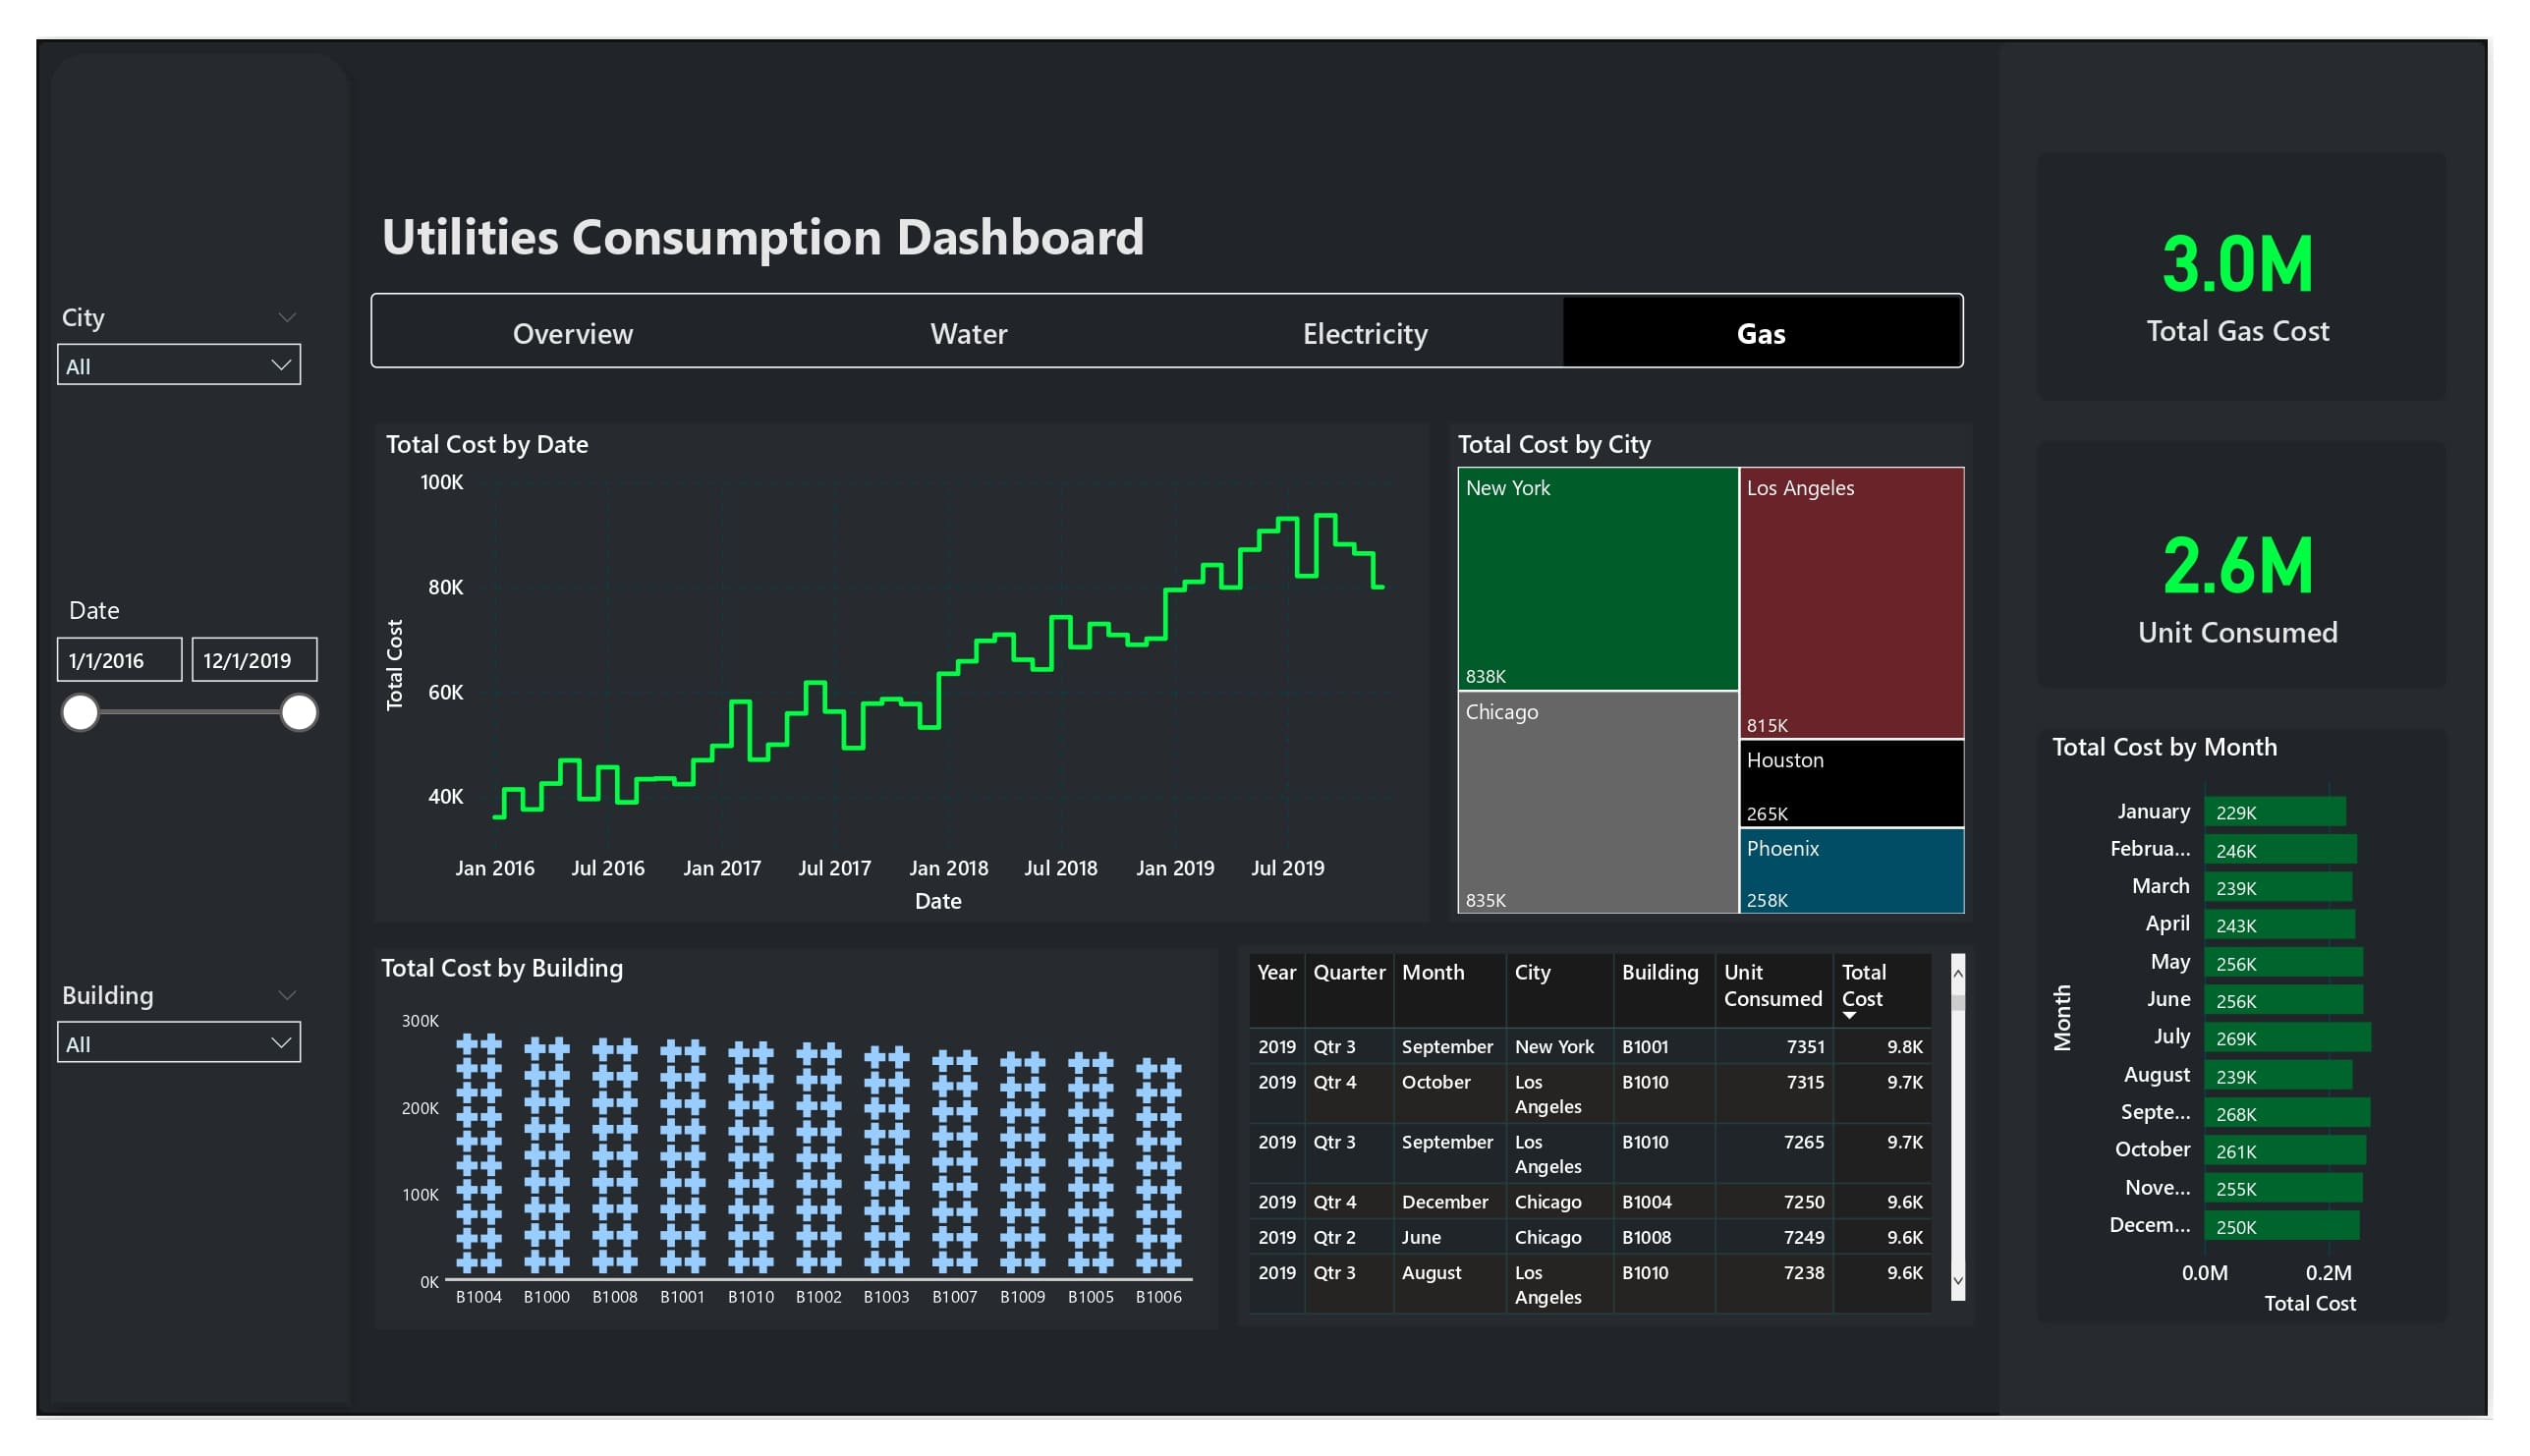

Layout of this report page (visuals, bound fields, positions):
{"tool":"powerbi","page":{"name":"Gas","canvas":[1600,900],"ordinal":3},"visuals":[{"type":"textbox","box":[219.2,101.9,776.9,65.4],"z":0},{"type":"pageNavigator","box":[218.2,166.4,1038.2,49.1],"z":1000},{"type":"card","fields":{"Values":["Measures_Table.Total Cost"]},"box":[1306.6,81.7,255.4,145.9],"z":2000},{"type":"card","fields":{"Values":["Measures_Table.Unit Consumed"]},"box":[1306.7,282.2,255.6,135.6],"z":4000},{"type":"slicer","fields":{"Values":["Building Master.City"]},"box":[3.5,166.8,179,73],"z":5000},{"type":"slicer","fields":{"Values":["Energy Consumptions.Building"]},"box":[3.5,608.1,179,73],"z":6000},{"type":"slicer","fields":{"Values":["Energy Consumptions.Date"]},"box":[0,380.5,192.3,86.5],"z":7000},{"type":"textbox","box":[15.6,357.9,152.9,33],"z":8000},{"type":"lineChart","fields":{"Category":["Energy Consumptions.Date"],"Y":["Measures_Table.Total Cost"]},"box":[222.9,254.2,683.3,322.9],"z":9000},{"type":"treemap","fields":{"Group":["Building Master.City"],"Values":["Measures_Table.Total Cost"]},"box":[920.1,254.5,340.3,322.4],"z":10000},{"type":"PBI_CV_73744D90_4DC9_4F18_8BA5_EE8FA5C98035","fields":{"Values":["Measures_Table.Total Cost"],"Category":["Energy Consumptions.Building"]},"box":[218.8,595.8,546.9,241.7],"z":11000},{"type":"tableEx","fields":{"Values":["Energy Consumptions.Date.Variation.Date Hierarchy.Year","Energy Consumptions.Date.Variation.Date Hierarchy.Quarter","Energy Consumptions.Date.Variation.Date Hierarchy.Month","Building Master.City","Building Master.Building","Measures_Table.Unit Consumed","Measures_Table.Total Cost"]},"box":[783.5,592.6,476.9,245],"z":12000},{"type":"clusteredBarChart","fields":{"Y":["Measures_Table.Total Cost"],"Category":["Energy Consumptions.Date.Variation.Date Hierarchy.Month"]},"box":[1307.2,450.6,263.9,386.7],"z":13000}]}

Visuals, with their boxes on the page's 1600x900 design canvas (x1, y1, x2, y2). These are canvas units, not pixel positions in the 2530x1456 screenshot, which may show the page scaled, cropped or inside an application window:
textbox: 219, 102, 996, 167
pageNavigator: 218, 166, 1256, 216
card - Measures_Table.Total Cost: 1307, 82, 1562, 228
card - Measures_Table.Unit Consumed: 1307, 282, 1562, 418
slicer - Building Master.City: 4, 167, 182, 240
slicer - Energy Consumptions.Building: 4, 608, 182, 681
slicer - Energy Consumptions.Date: 0, 380, 192, 467
textbox: 16, 358, 168, 391
lineChart - Energy Consumptions.Date x Measures_Table.Total Cost: 223, 254, 906, 577
treemap - Building Master.City x Measures_Table.Total Cost: 920, 254, 1260, 577
PBI_CV_73744D90_4DC9_4F18_8BA5_EE8FA5C98035 - Measures_Table.Total Cost x Energy Consumptions.Building: 219, 596, 766, 838
tableEx - Energy Consumptions.Date.Variation.Date Hierarchy.Year x Energy Consumptions.Date.Variation.Date Hierarchy.Quarter: 784, 593, 1260, 838
clusteredBarChart - Measures_Table.Total Cost x Energy Consumptions.Date.Variation.Date Hierarchy.Month: 1307, 451, 1571, 837
